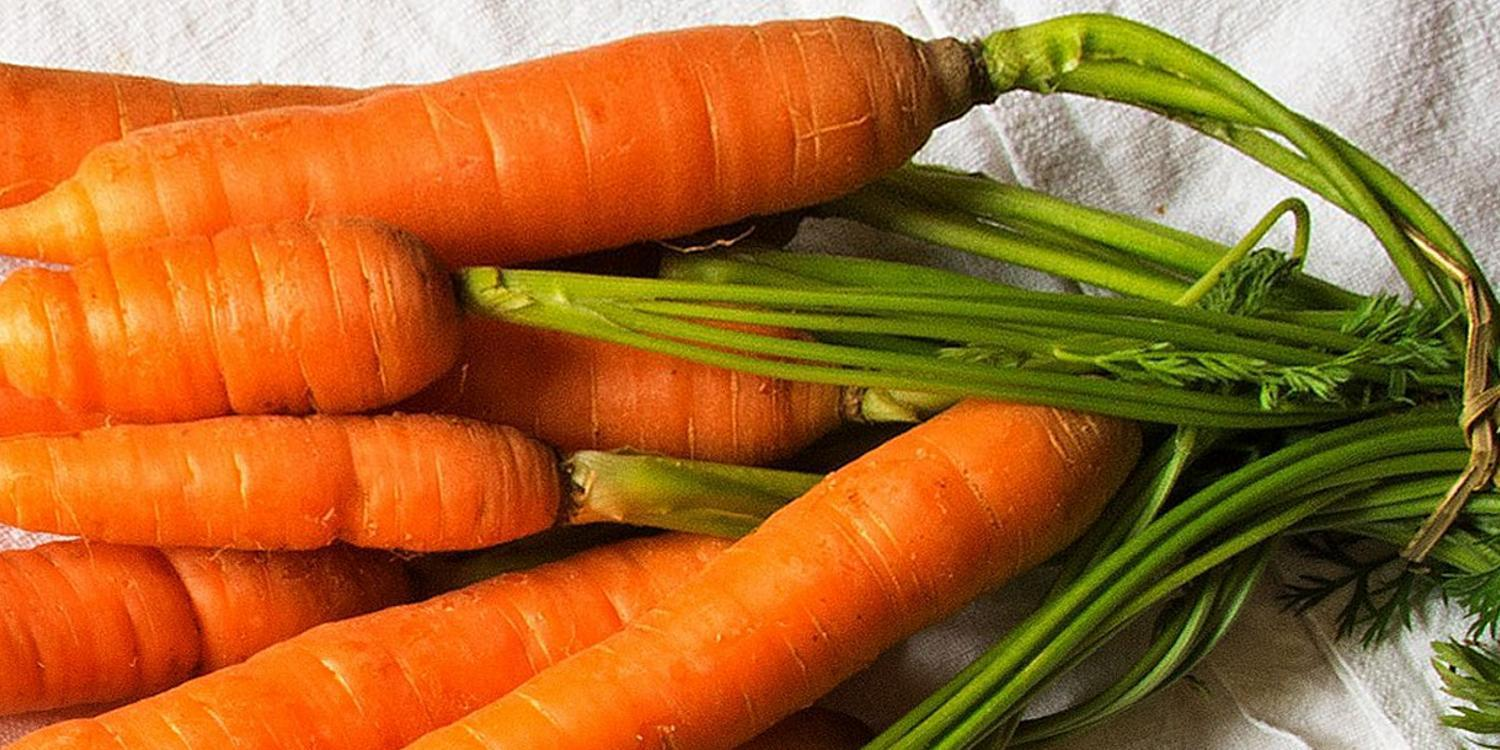carrot: (164, 324, 1198, 750), (5, 12, 1070, 237), (6, 200, 645, 558)
